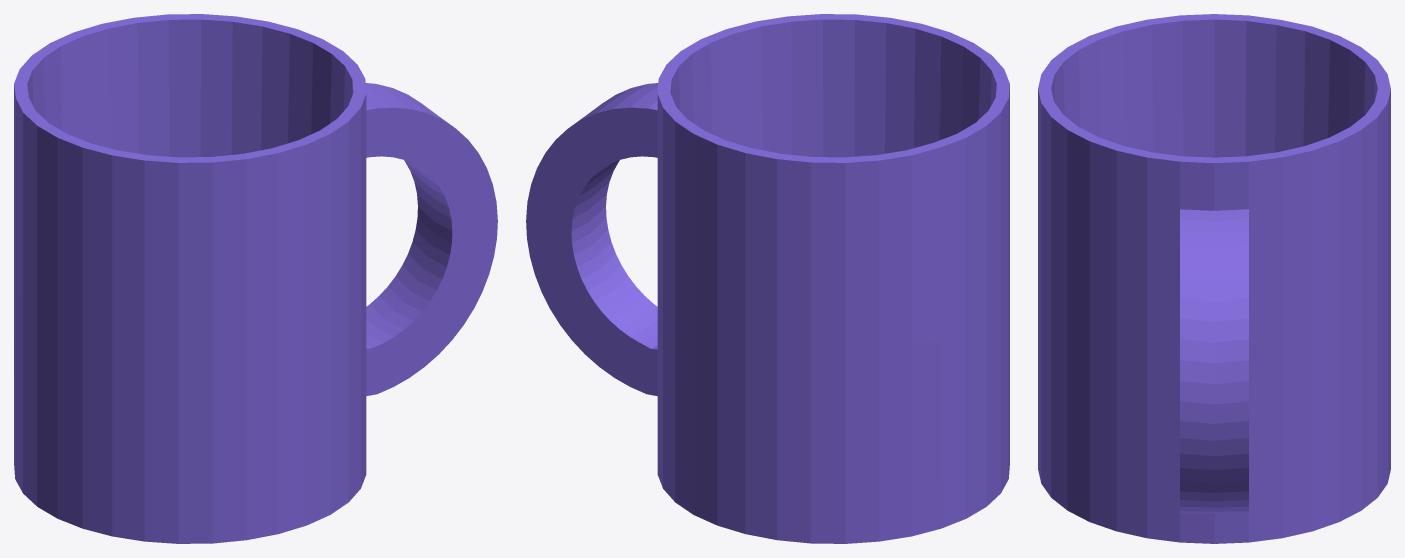
File: mug1.glb
3 renders of one model, left to right at view 1: azimuth 30°, elevation 25°; view 2: azimuth 150°, elevation 25°; view 3: azimuth 270°, elevation 25°, orthographic.
Visible parts, largest first — view 1: Cylinder; view 2: Cylinder; view 3: Cylinder.
Part boxes in pixels (bbox=[...]): Cylinder: bbox=[14, 14, 497, 543]; Cylinder: bbox=[526, 14, 1009, 543]; Cylinder: bbox=[1038, 14, 1390, 543].
Size of the model in its own units: 0.1218 by 0.1021 by 0.084.
